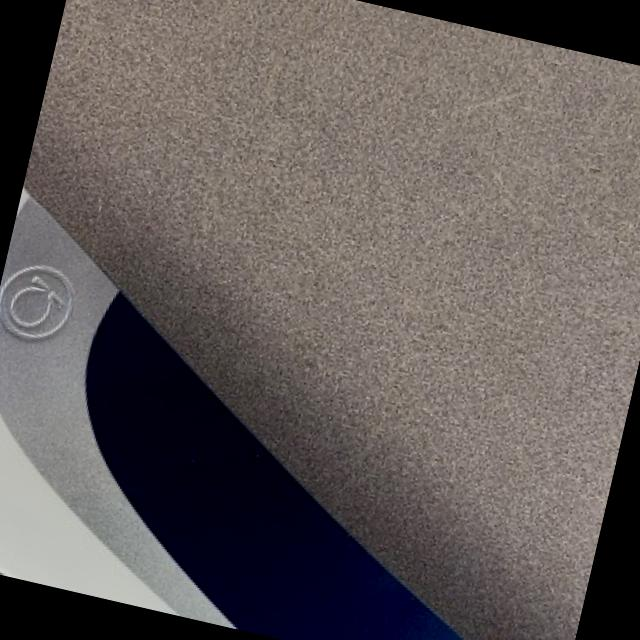healthy: (24, 0, 640, 640)
